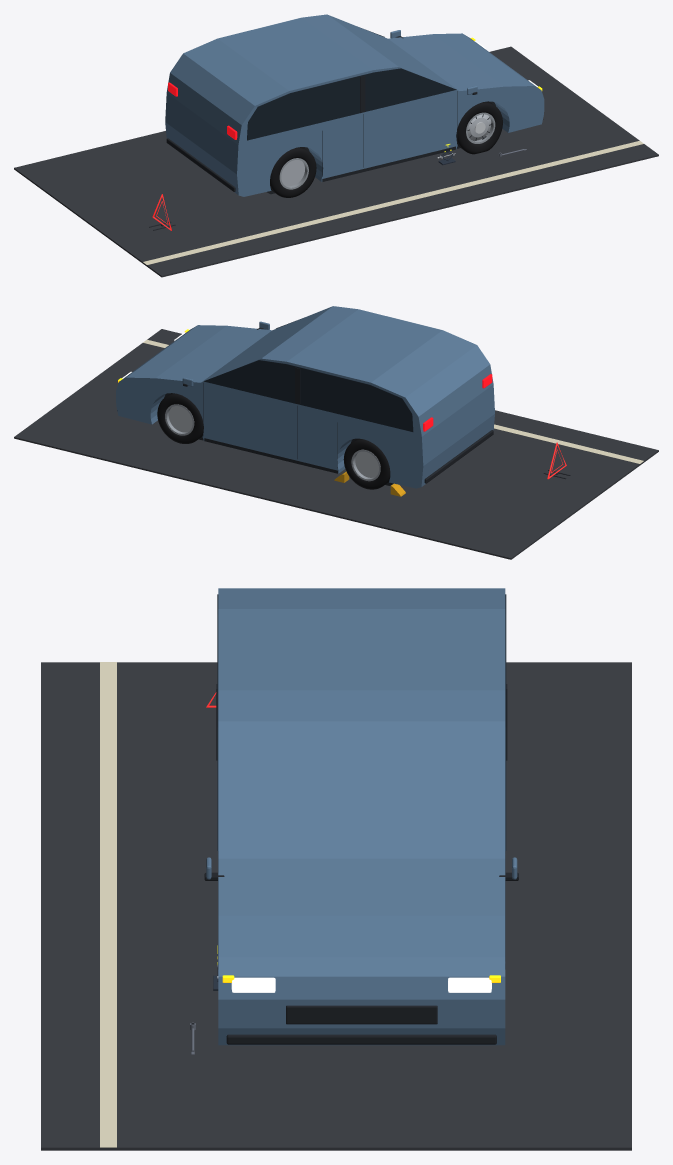
File: car_tire.glb
The picture shows the model from 3 angles, top to bottom: view 1: azimuth 30°, elevation 25°; view 2: azimuth 150°, elevation 25°; view 3: azimuth 270°, elevation 25°; orthographic projection. The views are drawn at different scales.
Parts seen in each view (by area): view 1: body, ground, flat_tire, wheel_cover; view 2: body, ground; view 3: ground, body.
Part boxes in pixels (left/top/right/bottom): body: left=165, top=14, right=544, bottom=197; ground: left=14, top=46, right=658, bottom=277; flat_tire: left=456, top=101, right=502, bottom=154; wheel_cover: left=467, top=114, right=491, bottom=140; body: left=116, top=306, right=494, bottom=489; ground: left=14, top=329, right=658, bottom=559; ground: left=41, top=662, right=631, bottom=1150; body: left=204, top=588, right=518, bottom=1045.
Bounding box in the file's own units: 6800 × 1501 × 3500.
